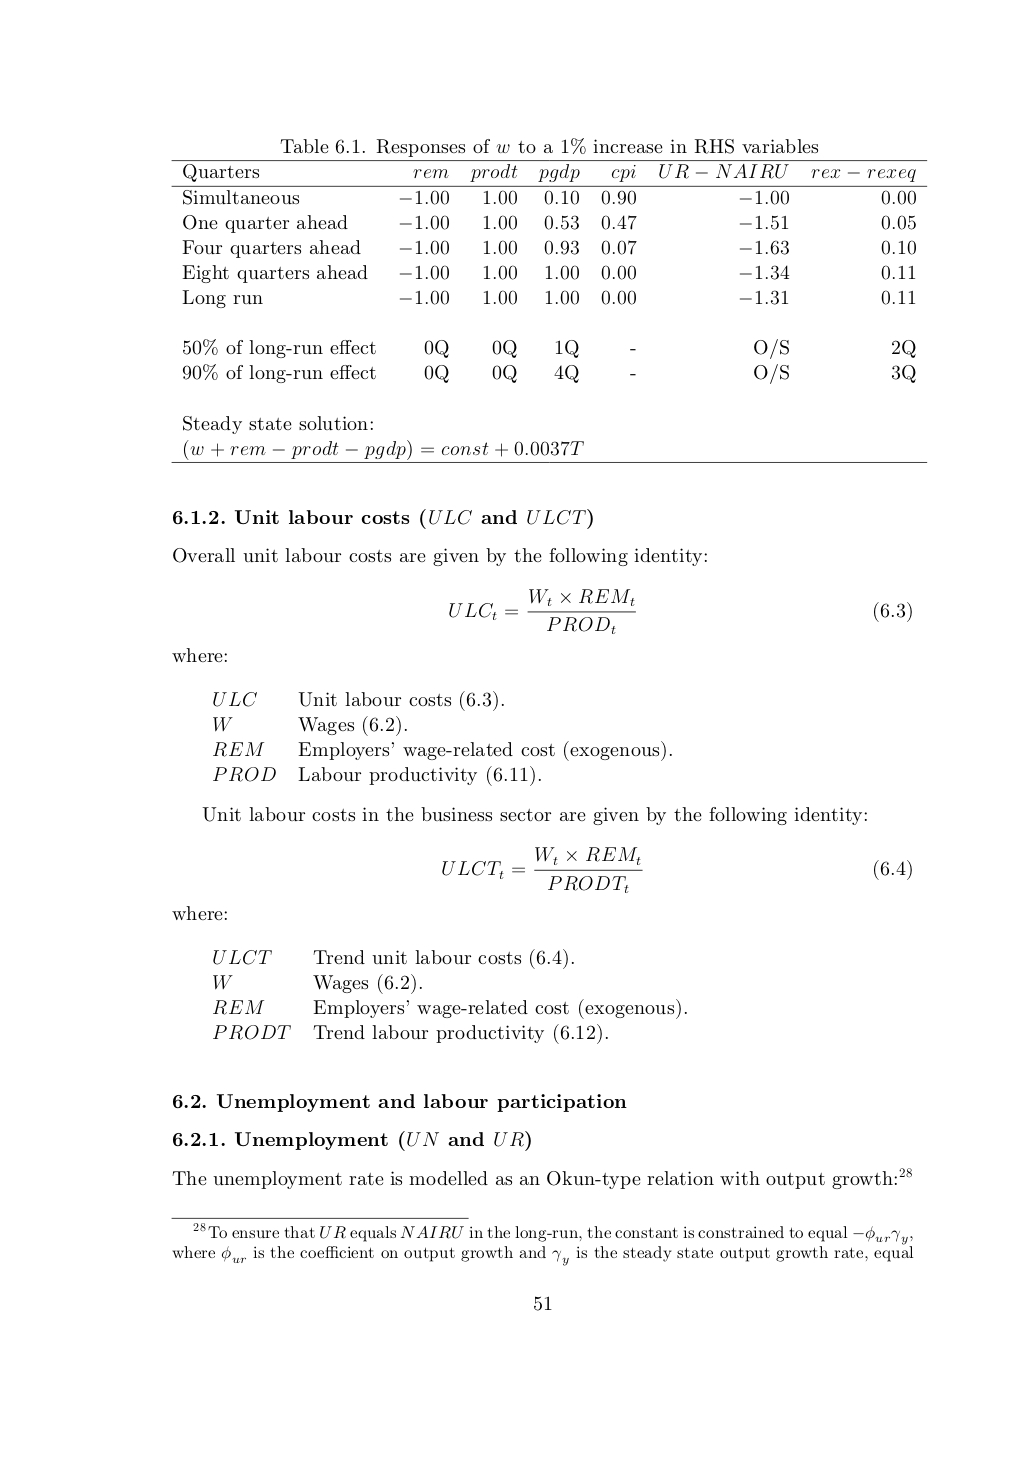Table: (171, 138, 927, 462)
formula: (442, 845, 911, 893), (449, 588, 911, 634)
